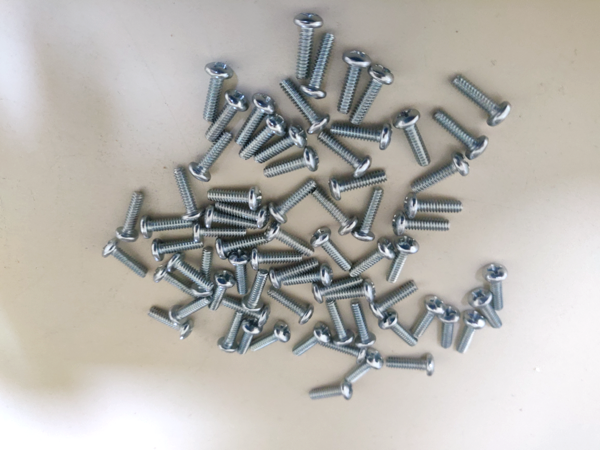shortscrew: (451, 74, 512, 128), (432, 108, 490, 160), (280, 77, 331, 134), (350, 65, 394, 126), (409, 152, 471, 193), (318, 132, 372, 178), (312, 186, 359, 237), (205, 89, 250, 142), (300, 32, 335, 100), (238, 113, 287, 161), (189, 131, 234, 183), (393, 109, 432, 167), (268, 180, 318, 224), (236, 94, 277, 147), (254, 125, 308, 165), (338, 50, 371, 115), (311, 227, 354, 273), (294, 12, 323, 80), (329, 169, 389, 201), (102, 239, 149, 279), (369, 282, 419, 319), (263, 146, 320, 178), (167, 252, 214, 290), (173, 166, 205, 221), (352, 187, 384, 242), (265, 221, 315, 256), (204, 61, 233, 121), (266, 289, 314, 325), (331, 123, 393, 150), (386, 235, 420, 284), (404, 193, 463, 220), (312, 276, 366, 305), (148, 306, 194, 340), (378, 309, 418, 348), (154, 265, 201, 298), (215, 201, 269, 229), (116, 191, 145, 243), (219, 298, 271, 327), (393, 212, 450, 237), (326, 299, 355, 348), (414, 295, 446, 339), (204, 205, 260, 230), (469, 288, 503, 329), (208, 186, 263, 211), (292, 323, 332, 357), (141, 214, 193, 240), (216, 234, 268, 260), (345, 350, 384, 384), (482, 262, 509, 311), (457, 310, 487, 354), (350, 300, 377, 348), (250, 321, 291, 352), (251, 248, 303, 272), (325, 279, 377, 303), (242, 268, 270, 312), (170, 297, 213, 325), (191, 248, 215, 297), (210, 269, 236, 314), (192, 222, 247, 243), (386, 354, 435, 377), (228, 248, 251, 295), (218, 313, 244, 353), (322, 341, 367, 364), (238, 317, 264, 355), (438, 306, 460, 350), (309, 382, 353, 401)
